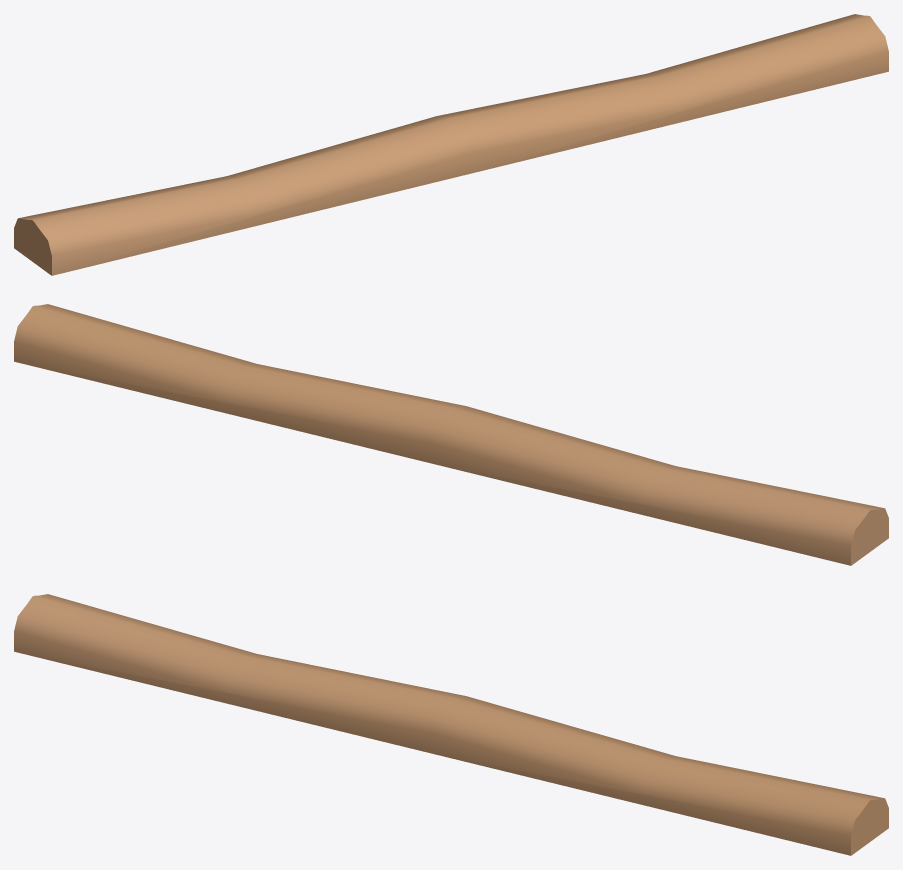
Rendered from DirtBikeSandTrackBarrier.glb.
3 renders of one model, top to bottom at view 1: azimuth 30°, elevation 25°; view 2: azimuth 150°, elevation 25°; view 3: azimuth 330°, elevation 25°, orthographic.
Visible parts, largest first — view 1: DirtBikeSandTrackBarrier; view 2: DirtBikeSandTrackBarrier; view 3: DirtBikeSandTrackBarrier.
Boxes of the visible parts, box(x1,y1,x2,y2) form: DirtBikeSandTrackBarrier: box(14, 14, 888, 275); DirtBikeSandTrackBarrier: box(14, 304, 888, 565); DirtBikeSandTrackBarrier: box(14, 594, 888, 855).
Size of the model in its own units: 8 by 0.3824 by 0.6262.
1 material, 1 textured.
